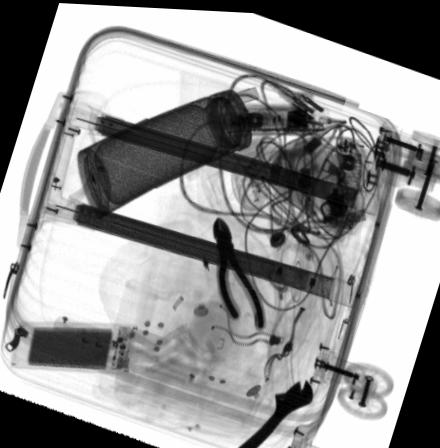Pliers: (211, 213, 264, 327)
Powerbank: (11, 322, 136, 373)
Wrench: (236, 375, 313, 448)
